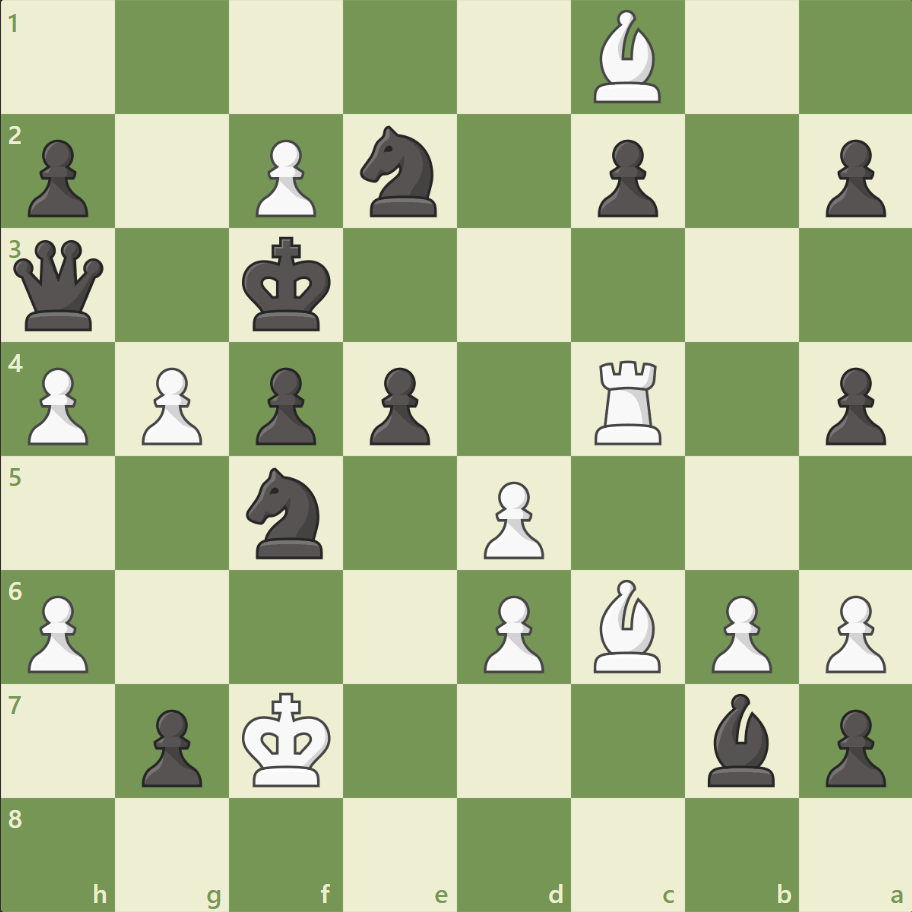B: (585, 6, 669, 109), (585, 574, 669, 676)
K: (238, 685, 338, 793)
P: (701, 586, 776, 677), (474, 586, 549, 677), (20, 586, 95, 677), (474, 473, 549, 564), (133, 359, 208, 450), (20, 359, 95, 450), (247, 132, 322, 223), (815, 586, 889, 677)
R: (587, 352, 670, 449)
b: (698, 687, 782, 790)
k: (238, 231, 338, 339)
n: (351, 121, 449, 223), (238, 461, 335, 564)
p: (133, 700, 208, 791), (247, 359, 322, 450), (20, 132, 95, 223), (815, 700, 889, 791), (815, 359, 889, 450), (361, 359, 435, 450), (815, 132, 889, 223), (588, 132, 662, 223)
q: (10, 236, 109, 335)
